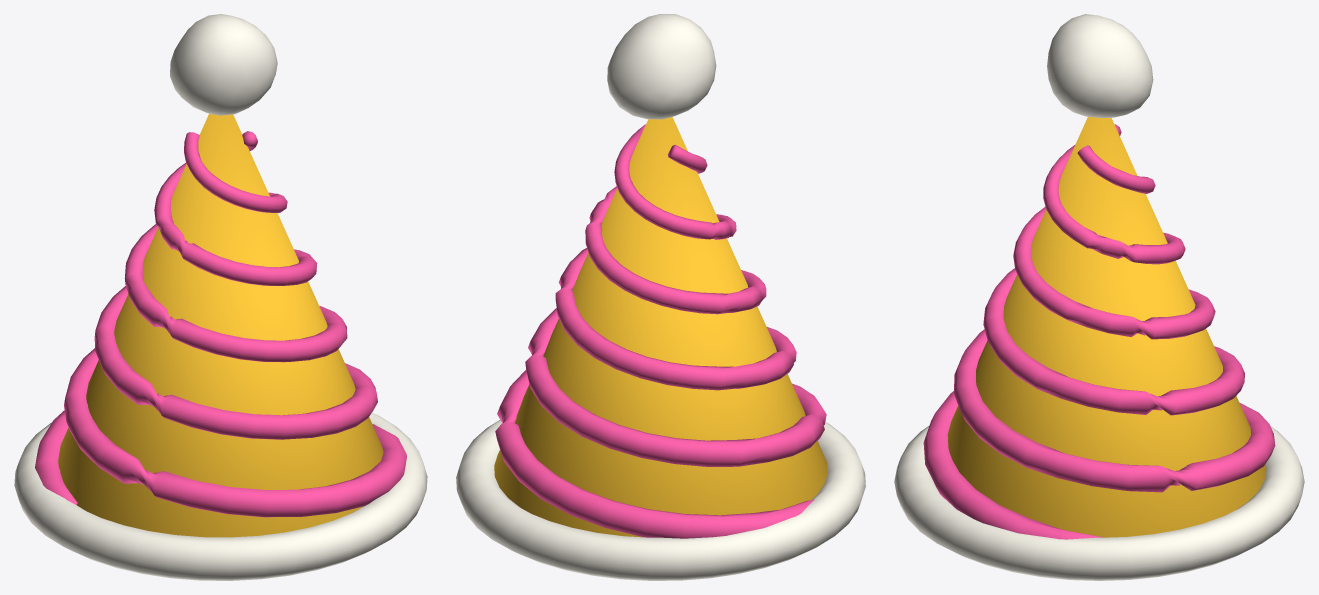
File: GoldPartyHat.obj
3 views of the same model, side by side, from view 1: azimuth 30°, elevation 25°; view 2: azimuth 150°, elevation 25°; view 3: azimuth 270°, elevation 25° (orthographic).
Parts seen in each view (by area): view 1: PartyGold, PartyStripe, PartyTrim; view 2: PartyGold, PartyStripe, PartyTrim; view 3: PartyGold, PartyStripe, PartyTrim.
Part boxes in pixels (box(x1,y1,x2,y2)): PartyGold: box(58, 113, 383, 537); PartyStripe: box(35, 131, 406, 517); PartyTrim: box(14, 14, 427, 580); PartyGold: box(494, 117, 827, 537); PartyStripe: box(495, 124, 826, 538); PartyTrim: box(456, 14, 865, 580); PartyGold: box(947, 117, 1266, 537); PartyStripe: box(923, 124, 1275, 539); PartyTrim: box(894, 14, 1304, 580).
Bounding box in the file's own units: 0.906 × 1.17 × 0.906.
